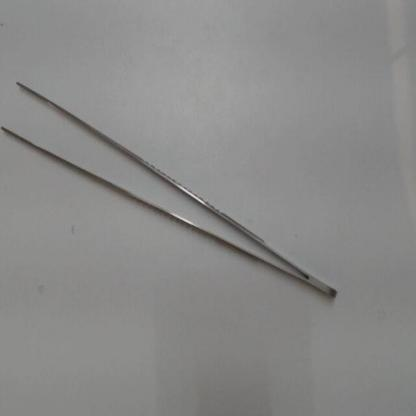DeBakey Dissector: (2, 67, 351, 309)
